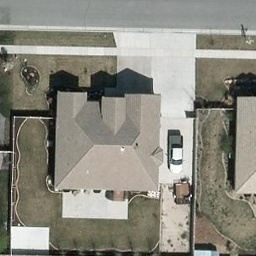car: (165, 132, 186, 173)
